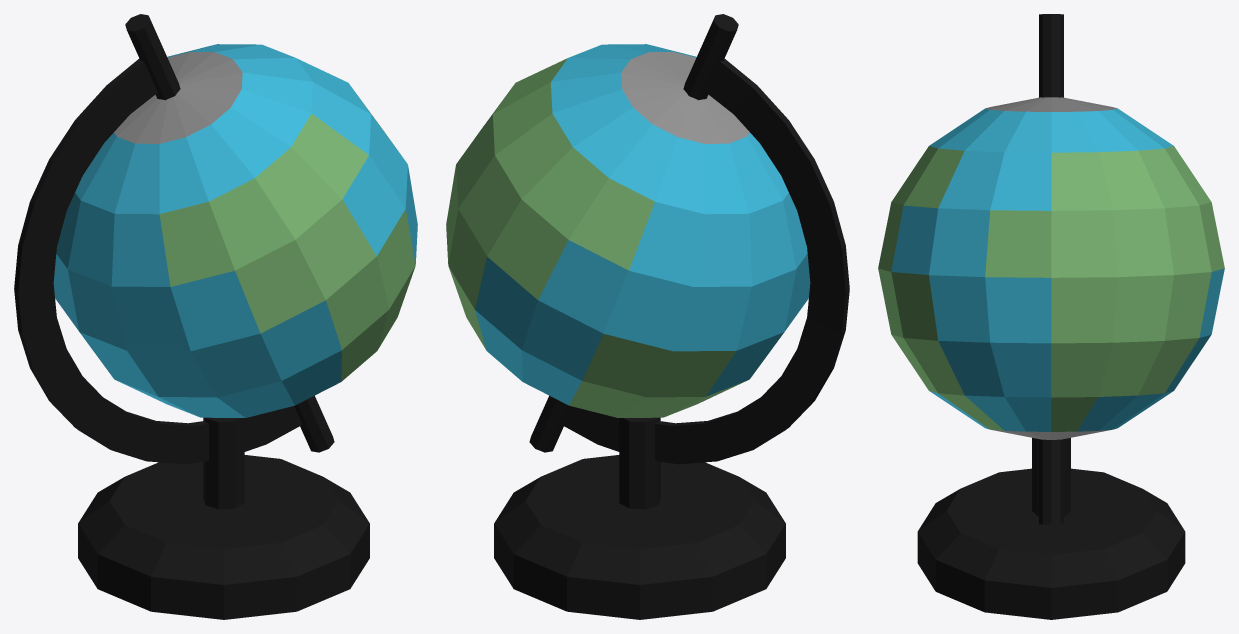
The model's file is Globe.glb.
The picture shows the model from 3 angles, left to right: view 1: azimuth 30°, elevation 25°; view 2: azimuth 150°, elevation 25°; view 3: azimuth 270°, elevation 25°; orthographic projection. The views are drawn at different scales.
Parts seen in each view (by area): view 1: Globe; view 2: Globe; view 3: Globe.
Boxes of the visible parts, x1=… form: Globe: x1=14, y1=14, x2=417, y2=619; Globe: x1=446, y1=14, x2=849, y2=619; Globe: x1=878, y1=14, x2=1224, y2=619.
Size of the model in its own units: 0.3421 by 0.4843 by 0.2957.
Materials: 1 (1 with a texture image).
